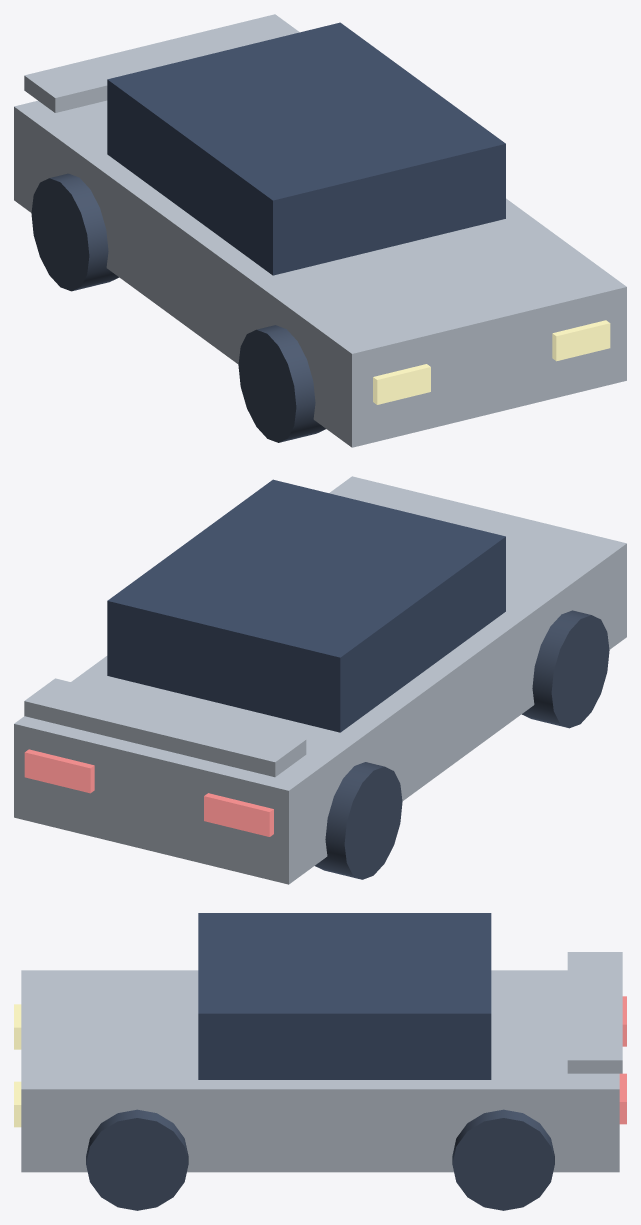
The model's file is car_1.glb.
3 views of the same model, one above another, from view 1: azimuth 30°, elevation 25°; view 2: azimuth 150°, elevation 25°; view 3: azimuth 270°, elevation 25° (orthographic). The views are drawn at different scales.
Visible parts, largest first — view 1: chassis, cabin, spoiler, wheel_0, wheel_2, headlight_1, headlight_0; view 2: chassis, cabin, spoiler, wheel_2, wheel_0, taillight_1, taillight_0; view 3: chassis, cabin, wheel_1, wheel_3, spoiler.
Boxes of the visible parts, box(x1,y1,x2,y2) form: chassis: box(14, 100, 626, 447); cabin: box(107, 22, 505, 275); spoiler: box(24, 14, 299, 112); wheel_0: box(238, 325, 325, 442); wheel_2: box(31, 173, 118, 291); headlight_1: box(552, 320, 610, 361); headlight_0: box(373, 364, 430, 404); chassis: box(14, 476, 626, 884); cabin: box(107, 479, 505, 732); spoiler: box(24, 678, 306, 777); wheel_2: box(315, 762, 402, 879); wheel_0: box(522, 610, 609, 728); taillight_1: box(24, 749, 94, 793); taillight_0: box(204, 793, 273, 836); chassis: box(21, 970, 619, 1172); cabin: box(198, 913, 491, 1079); wheel_1: box(86, 1109, 188, 1210); wheel_3: box(452, 1109, 554, 1210); spoiler: box(567, 952, 622, 1073).
Size of the model in its own units: 2.62 by 1.62 by 5.02.
